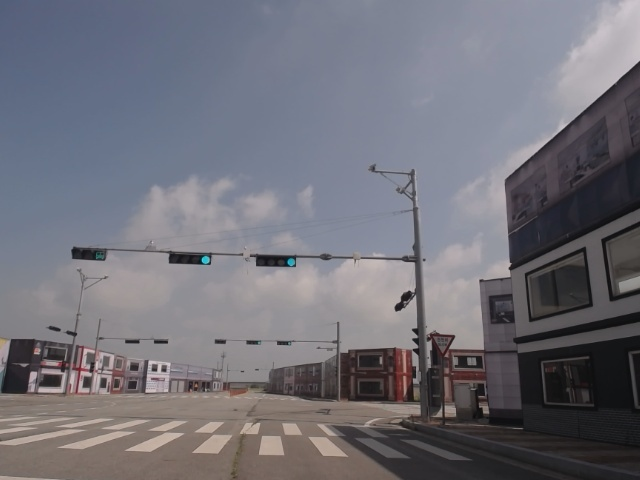straight_green_4: (255, 255, 296, 268), (168, 254, 213, 265)
